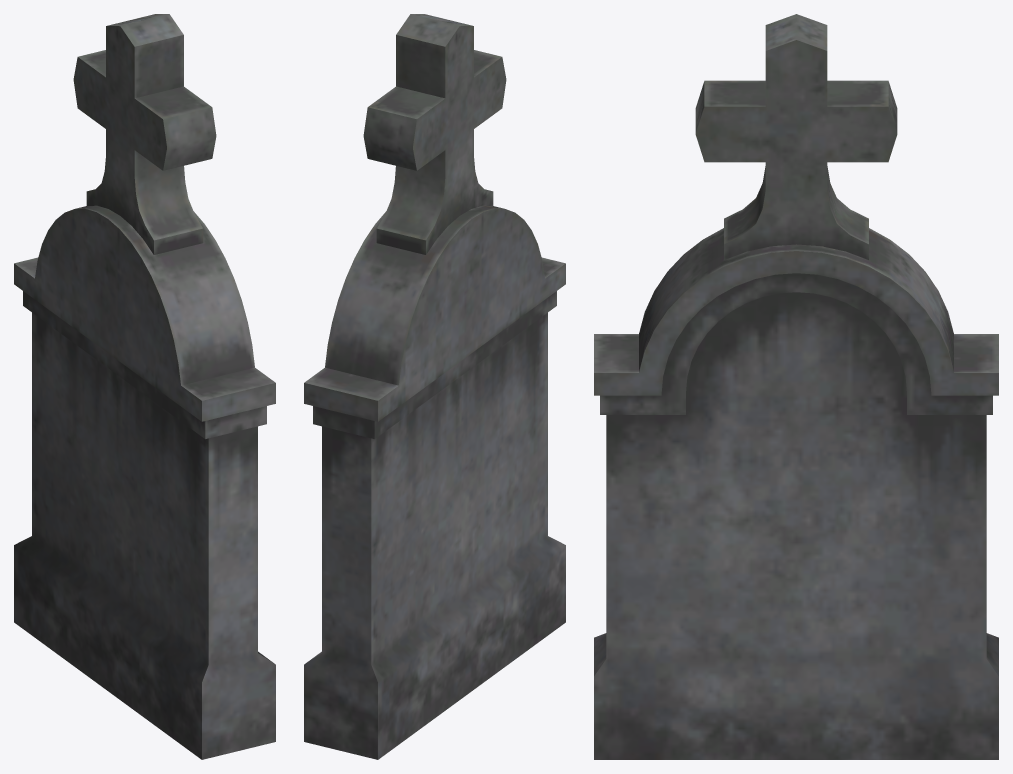
The model's file is Cemetery_OBJ_Tombstone_02.fbx.
3 renders of one model, left to right at view 1: azimuth 30°, elevation 25°; view 2: azimuth 150°, elevation 25°; view 3: azimuth 270°, elevation 25°, orthographic. The views are drawn at different scales.
Parts seen in each view (by area): view 1: Cemetery_OBJ_Tombstone_02; view 2: Cemetery_OBJ_Tombstone_02; view 3: Cemetery_OBJ_Tombstone_02.
Boxes of the visible parts, x1=… form: Cemetery_OBJ_Tombstone_02: x1=14, y1=14, x2=275, y2=759; Cemetery_OBJ_Tombstone_02: x1=304, y1=14, x2=565, y2=759; Cemetery_OBJ_Tombstone_02: x1=594, y1=14, x2=998, y2=759.
Size of the model in its own units: 17.18 by 147 by 75.58.
1 material, 1 textured.
